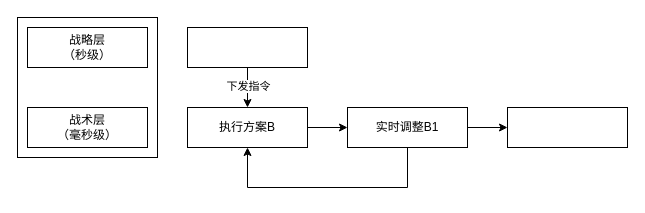
Some shapes in this 645 by 213 pixel diagram are drawn without their labels. The shapes that lost their labels are listed below. From the top down, each one's centre as x and y in pixels, then its label:
the point at 247,47: 生成方案(A/B/C)
the point at 567,127: 最终执行B1`
